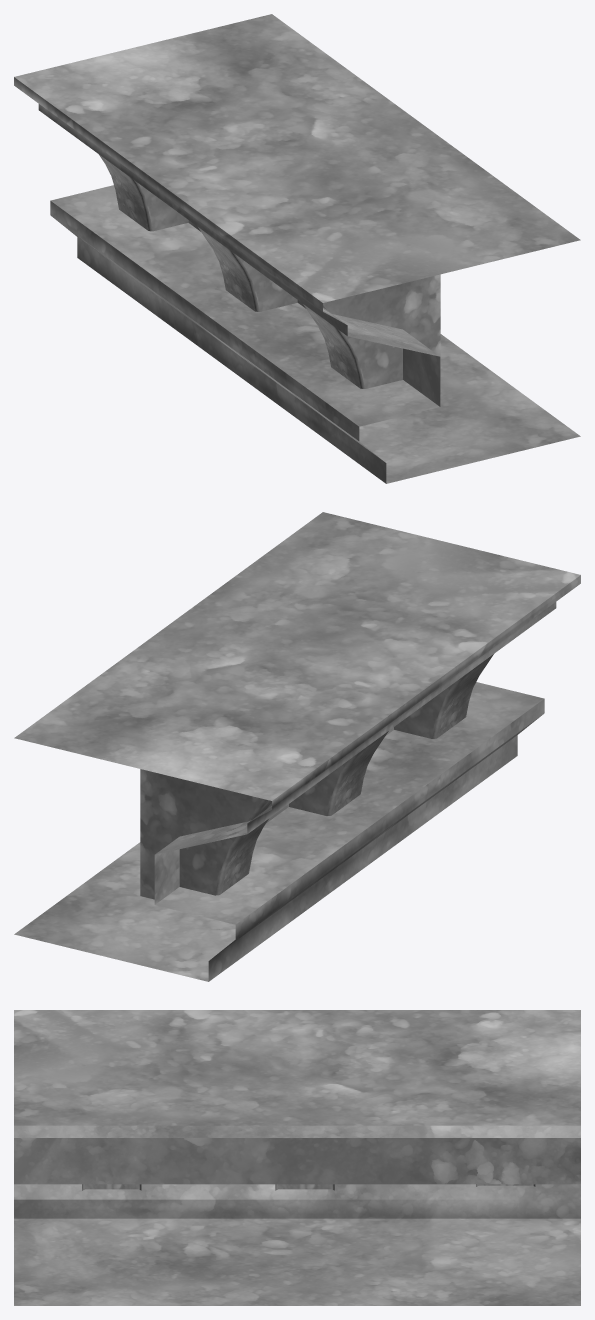
Rendered from SM_WallTrim_01h.fbx.
3 renders of one model, top to bottom at view 1: azimuth 30°, elevation 25°; view 2: azimuth 150°, elevation 25°; view 3: azimuth 270°, elevation 25°, orthographic. The views are drawn at different scales.
Parts seen in each view (by area): view 1: SM_WallTrim_01h_LOD0; view 2: SM_WallTrim_01h_LOD0; view 3: SM_WallTrim_01h_LOD0.
Boxes of the visible parts, x1,y1,x2,y2 form: SM_WallTrim_01h_LOD0: (14, 14, 580, 483); SM_WallTrim_01h_LOD0: (14, 512, 580, 981); SM_WallTrim_01h_LOD0: (14, 1010, 580, 1305).
Size of the model in its own units: 72.33 by 150 by 52.59.
